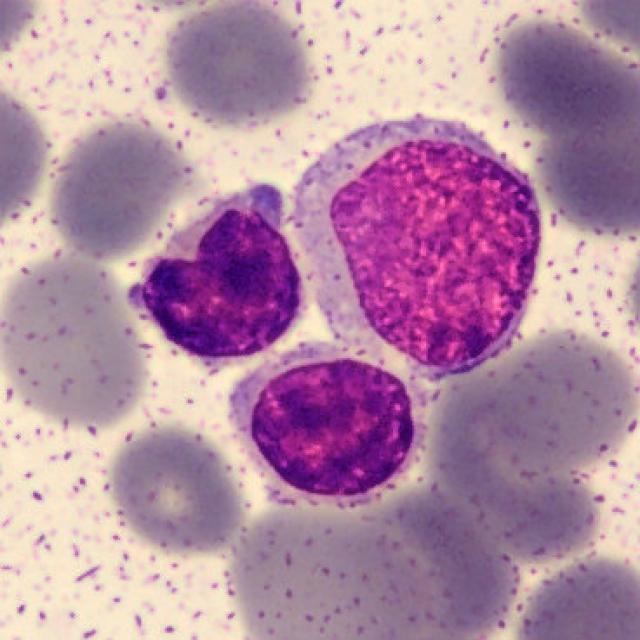Linfocito: (130, 190, 303, 362), (235, 358, 421, 503)
Mieloblasto: (289, 114, 543, 377)
